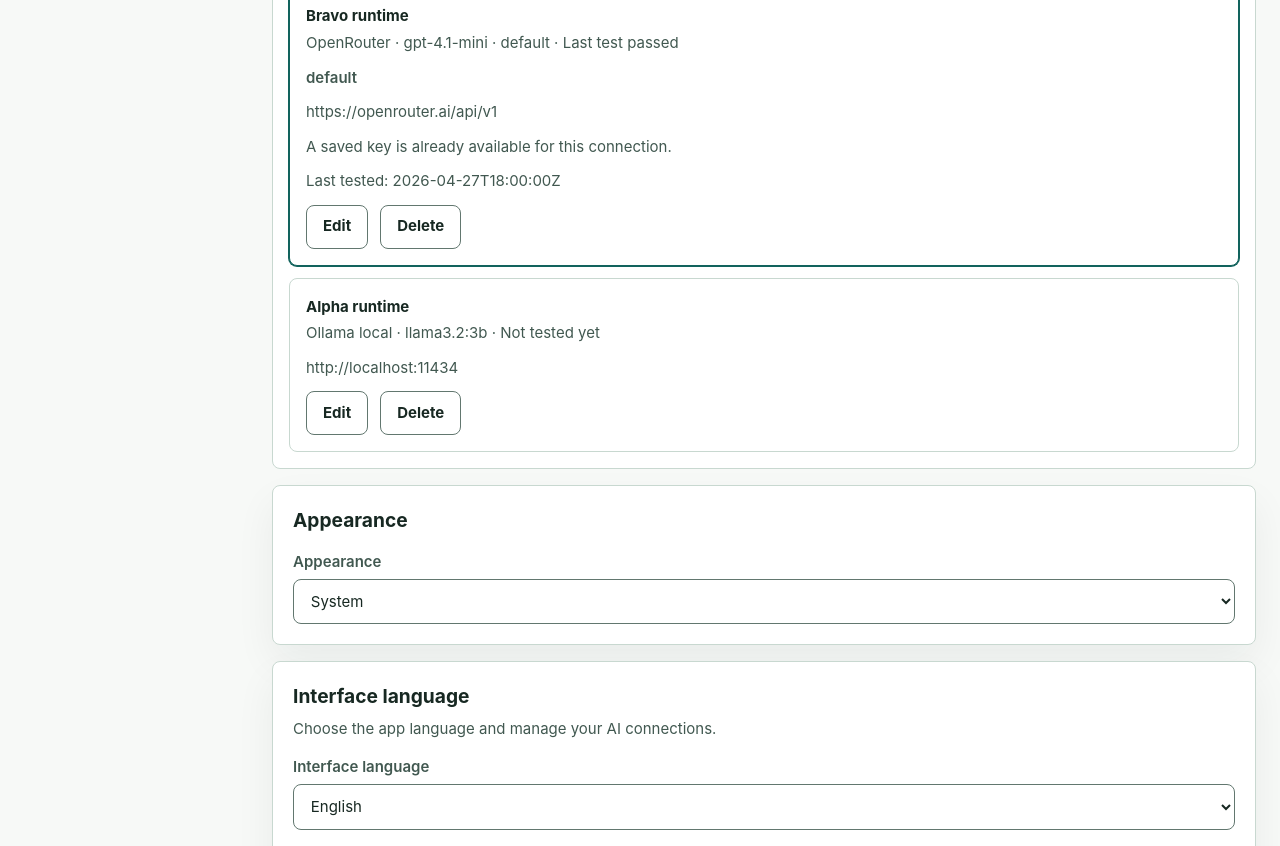
Settings route › reports a saved edit when the previous active connection cannot be restored
The image size is (1280, 846).
(page scrolled)
Click the button with test id "settings.connection_row_edit" below "http://localhost:11434" at (337, 413), box x1=306 y1=391 x2=368 y2=435
(page scrolled)
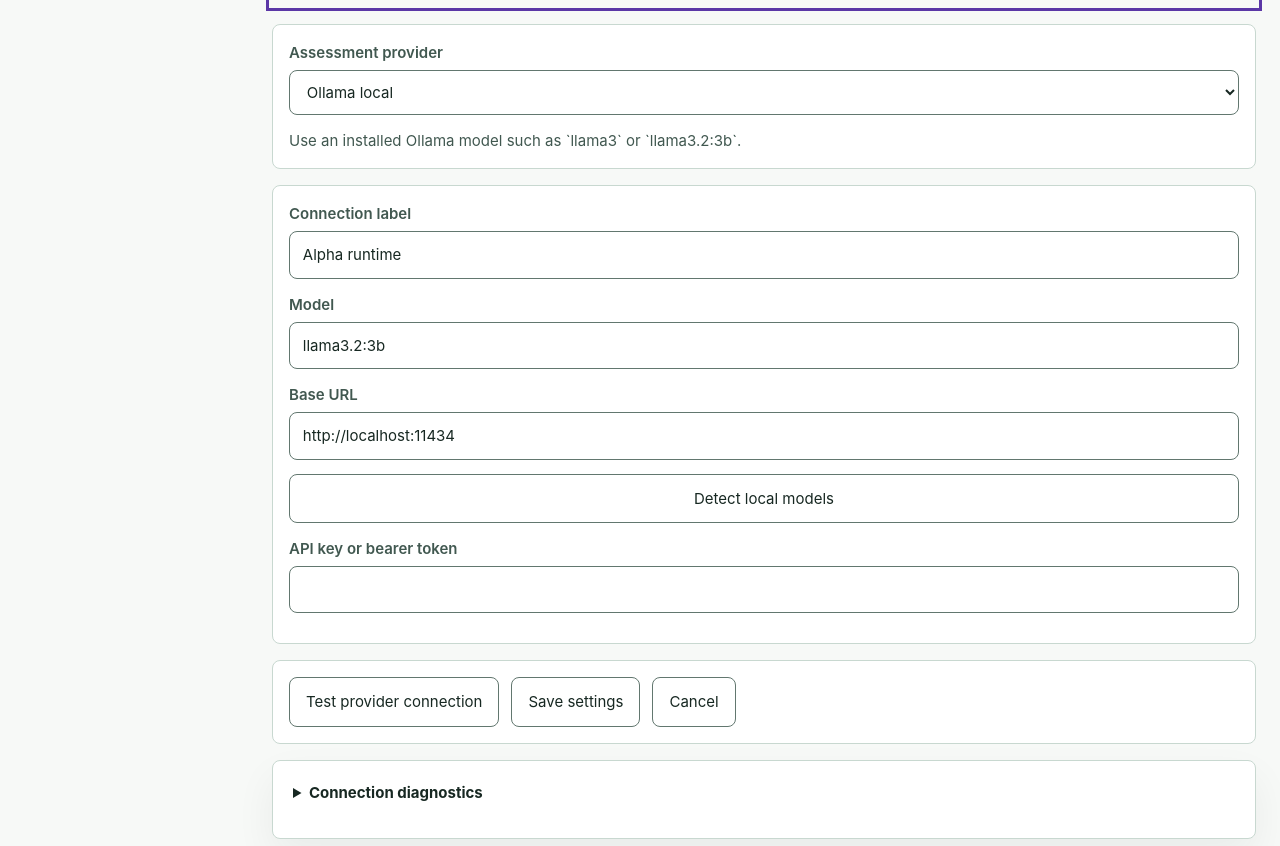
Replace the text in the field with test id "runtime_connection.model" with "new-local-model" at (764, 345), box x1=289 y1=322 x2=1239 y2=369
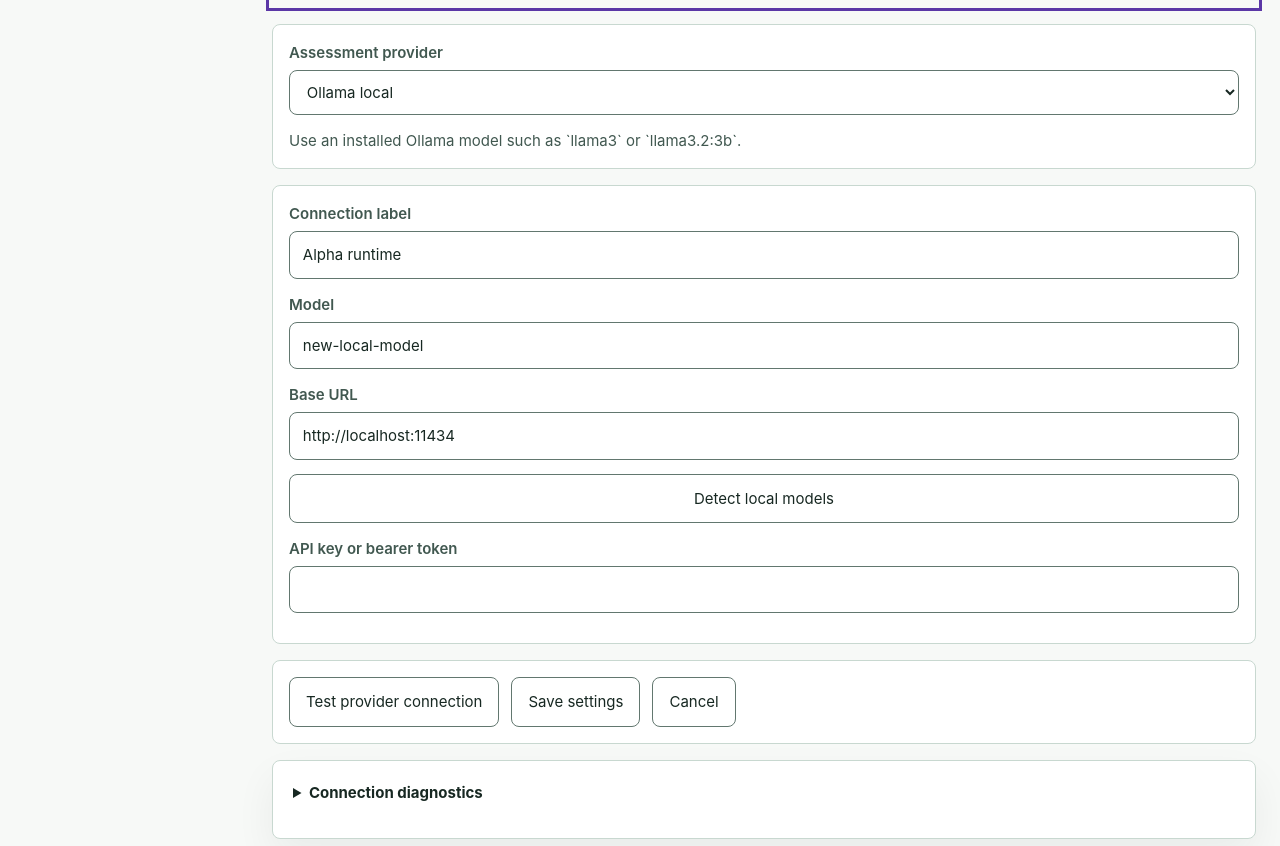
Click the button with test id "runtime_connection.save_connection" at (576, 702), box x1=512 y1=677 x2=640 y2=727
(page scrolled)
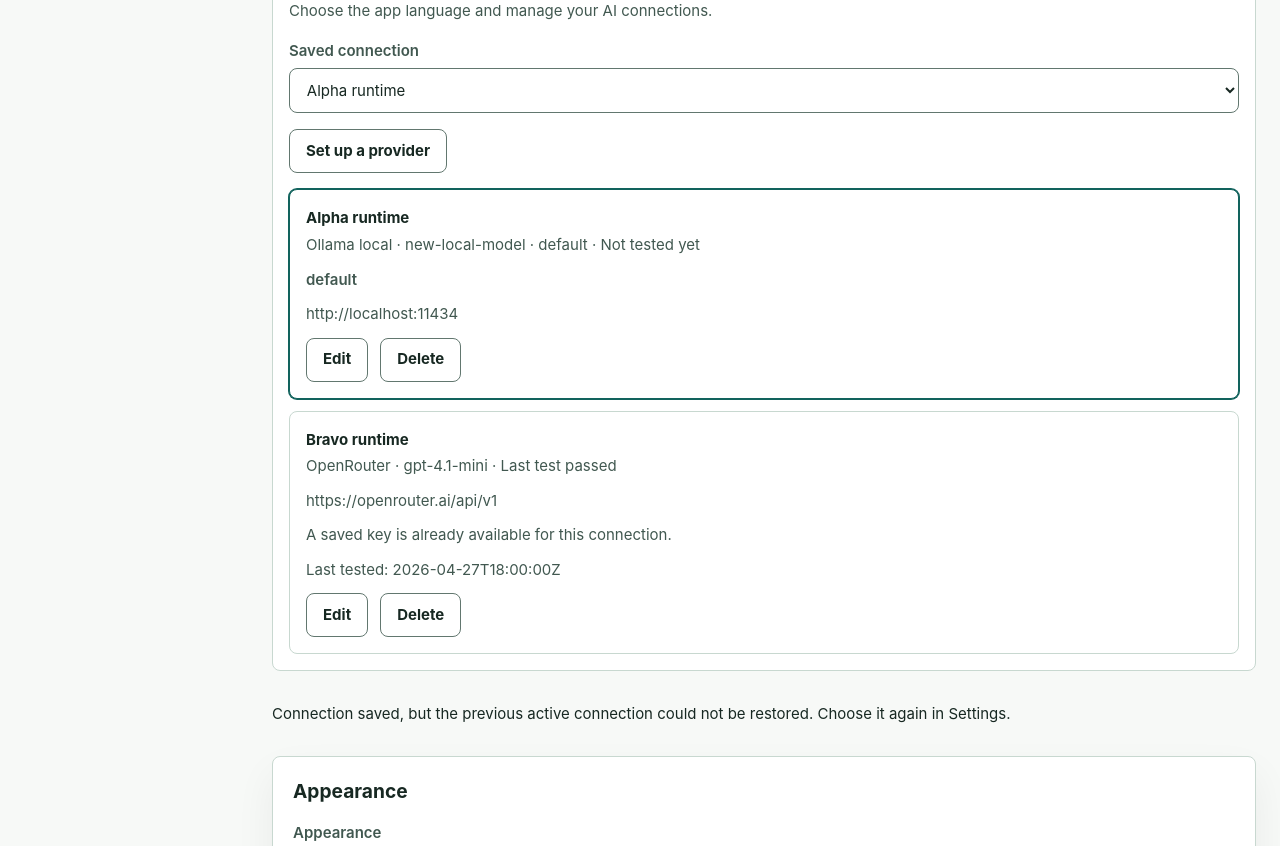
expect the dropdown with test id "settings.connection_id" shows "Alpha runtime": met, box x1=289 y1=68 x2=1239 y2=113
expect the text "Connection saved, but the previous active connection could not be restored. Choose it again in Settings." is shown: met, box x1=272 y1=704 x2=1010 y2=723
